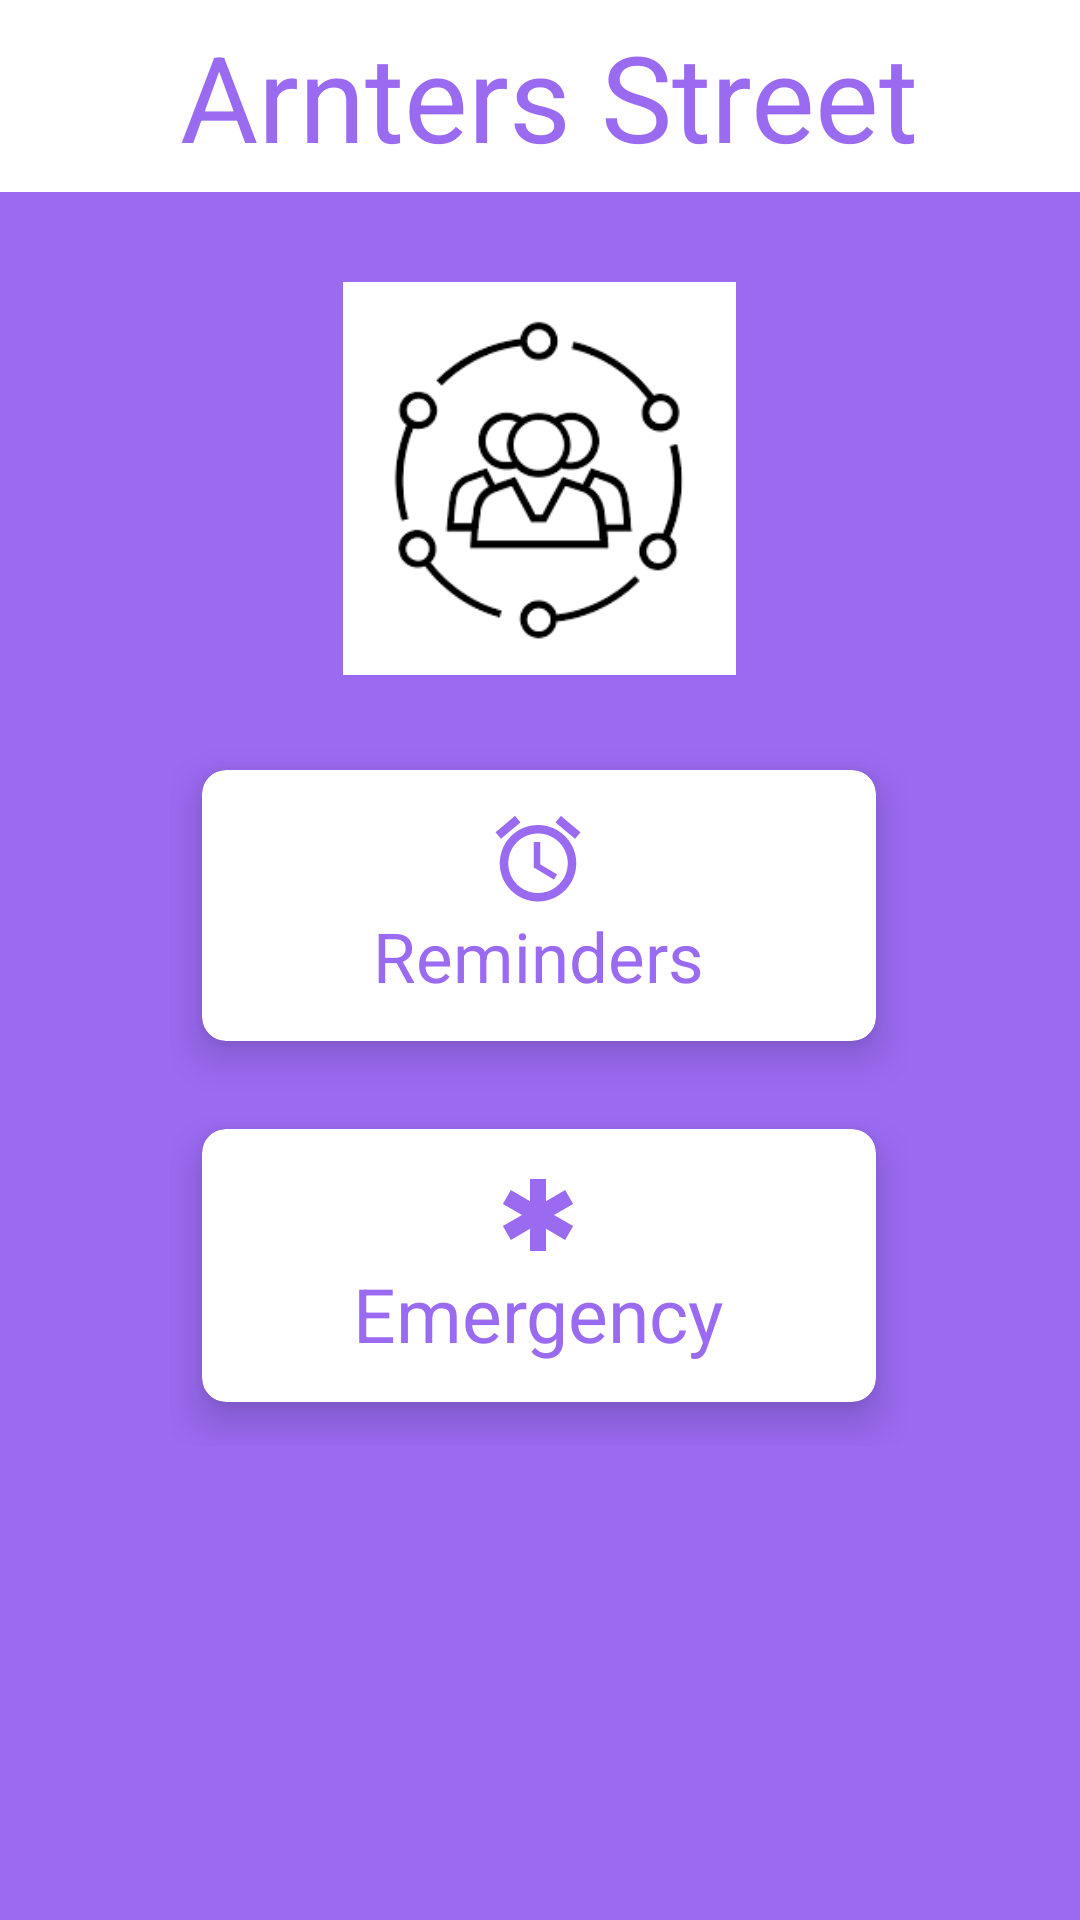

Screen size 1080px×1920px. Icon name, then its center in pixels as (x=x, y=y):
alarm: (x=538, y=859)
